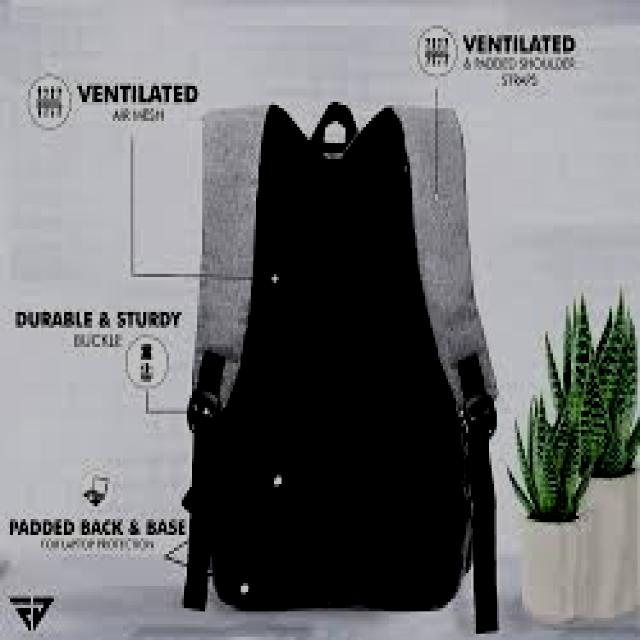backpack: (183, 100, 498, 632)
